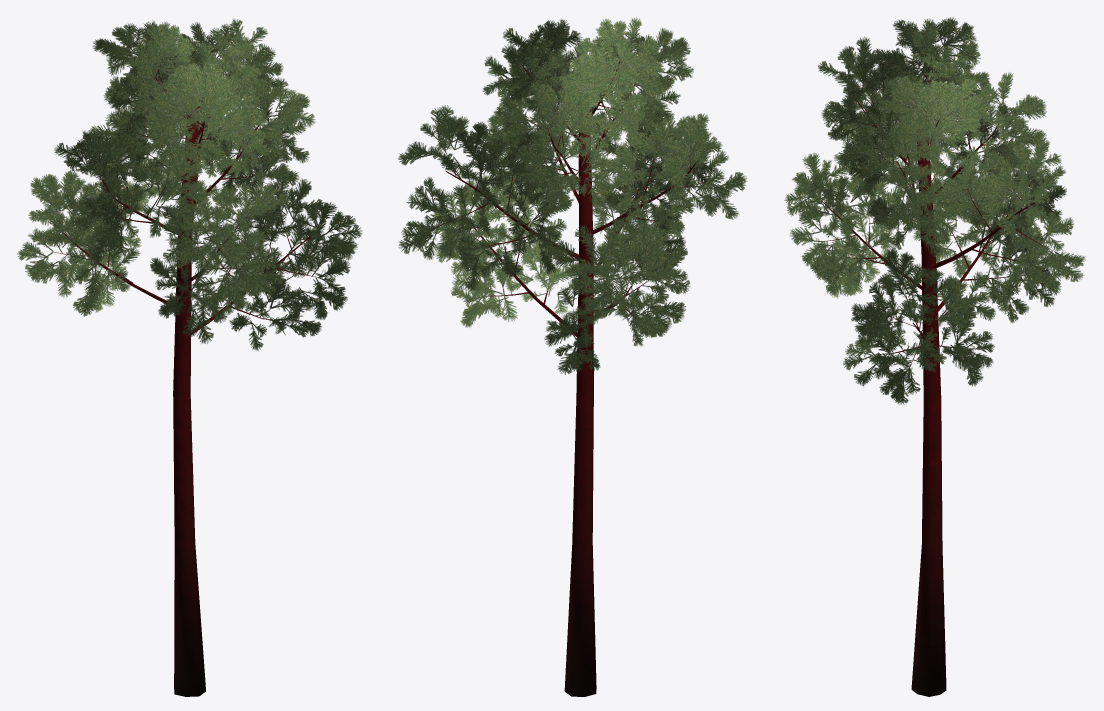
Rendered from pine_open_v01_LOD1.glb.
3 renders of one model, left to right at view 1: azimuth 30°, elevation 25°; view 2: azimuth 150°, elevation 25°; view 3: azimuth 270°, elevation 25°, orthographic. The views are drawn at different scales.
Parts seen in each view (by area): view 1: pine_open_v01_LOD1; view 2: pine_open_v01_LOD1; view 3: pine_open_v01_LOD1.
Boxes of the visible parts, x1,y1,x2,y2 form: pine_open_v01_LOD1: (17, 18, 362, 696); pine_open_v01_LOD1: (398, 17, 747, 696); pine_open_v01_LOD1: (784, 17, 1085, 696).
Bounding box in the file's own units: 8.03 × 18.28 × 7.81.
Materials: 2 (2 with a texture image).
